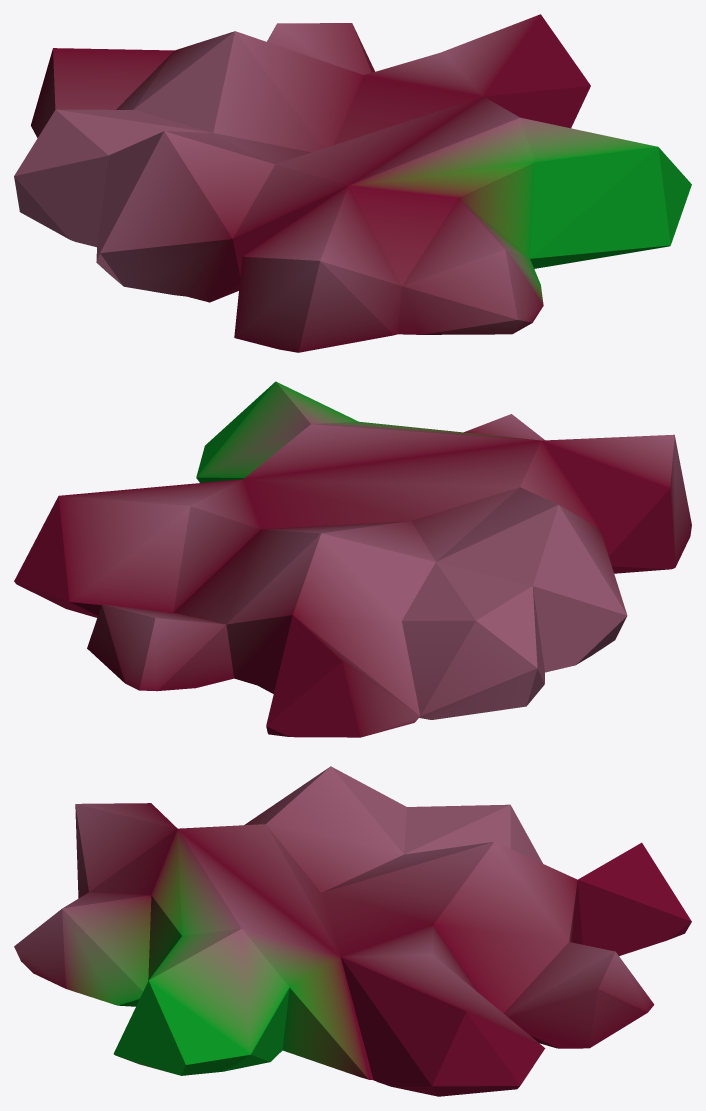
File: SM_TestMeal.fbx
The picture shows the model from 3 angles, top to bottom: view 1: azimuth 30°, elevation 25°; view 2: azimuth 150°, elevation 25°; view 3: azimuth 270°, elevation 25°; orthographic projection. The views are drawn at different scales.
Parts seen in each view (by area): view 1: TestMeal; view 2: TestMeal; view 3: TestMeal.
Boxes of the visible parts, x1,y1,x2,y2 form: TestMeal: (14,14,691,352); TestMeal: (14,381,691,737); TestMeal: (14,766,691,1096).
Size of the model in its own units: 71.62 by 17.36 by 83.03.
